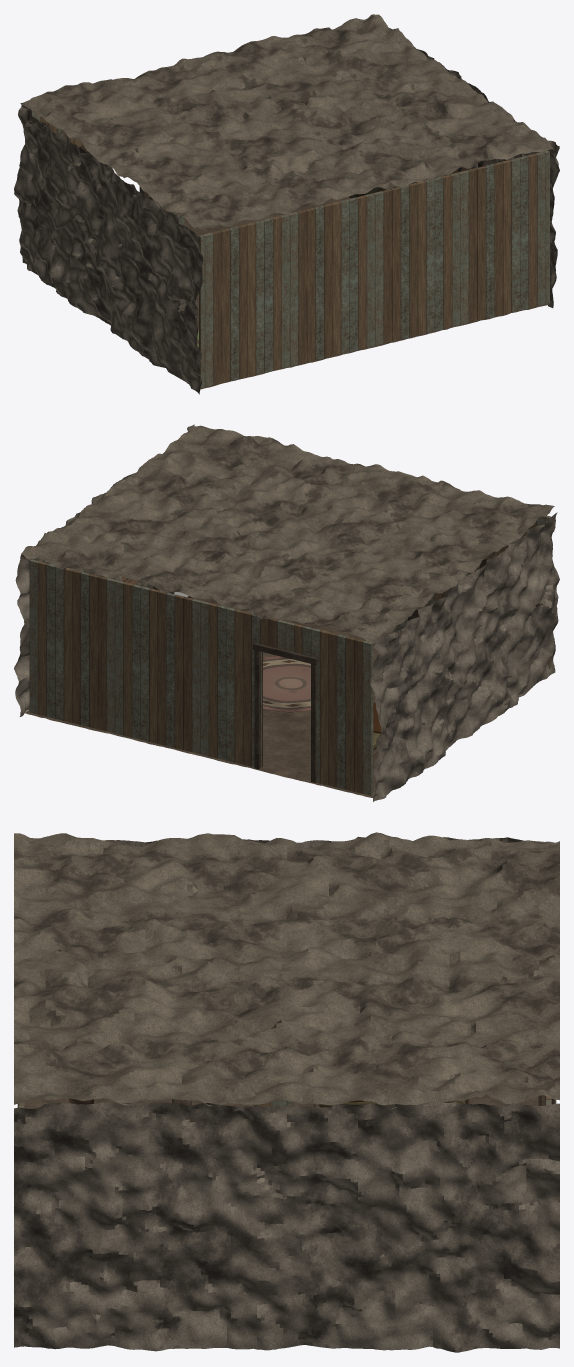
Rendered from env_sanctuary_quarters.gltf.
3 renders of one model, top to bottom at view 1: azimuth 30°, elevation 25°; view 2: azimuth 150°, elevation 25°; view 3: azimuth 270°, elevation 25°, orthographic. The views are drawn at different scales.
Visible parts, largest first — view 1: quarters_rock_mine_02, front_wall, quarters_rock_mine_01, quarters_earth_packed_01; view 2: quarters_rock_mine_02, quarters_plank_survivor_01, quarters_rock_mine_01, quarters_earth_packed_01, quarters_rug_woven_01, quarters_timber_mine_01, front_wall; view 3: quarters_rock_mine_02, quarters_rock_mine_01, quarters_earth_packed_01.
Part boxes in pixels (left/top/right/bottom): quarters_rock_mine_02: left=21, top=14, right=553, bottom=228; front_wall: left=199, top=150, right=549, bottom=388; quarters_rock_mine_01: left=14, top=25, right=559, bottom=394; quarters_earth_packed_01: left=24, top=188, right=549, bottom=389; quarters_rock_mine_02: left=21, top=425, right=554, bottom=643; quarters_plank_survivor_01: left=29, top=559, right=373, bottom=795; quarters_rock_mine_01: left=14, top=424, right=559, bottom=801; quarters_earth_packed_01: left=24, top=597, right=461, bottom=798; quarters_rug_woven_01: left=263, top=656, right=310, bottom=712; quarters_timber_mine_01: left=84, top=554, right=495, bottom=782; front_wall: left=392, top=515, right=551, bottom=668; quarters_rock_mine_02: left=14, top=832, right=559, bottom=1109; quarters_rock_mine_01: left=14, top=836, right=559, bottom=1352; quarters_earth_packed_01: left=17, top=1094, right=556, bottom=1340.
Size of the model in its own units: 8.72 by 3.81 by 7.3.
23 materials, 20 textured.
